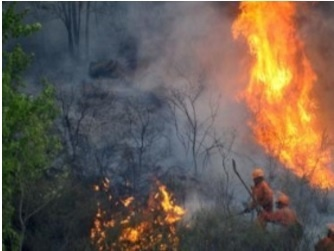fire: (231, 2, 333, 197), (88, 176, 186, 248)
